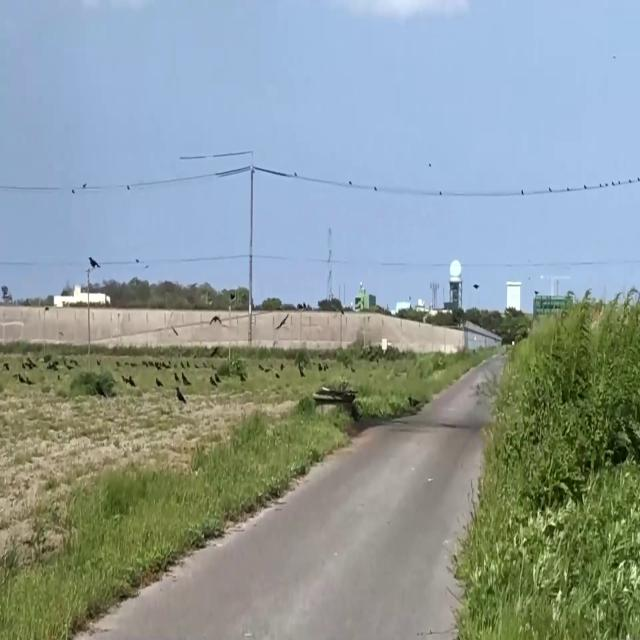bird: (88, 248, 100, 276), (176, 378, 186, 409), (97, 377, 104, 401)
